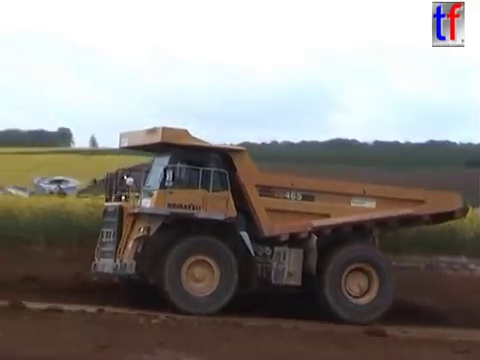truck: (87, 123, 471, 328)
